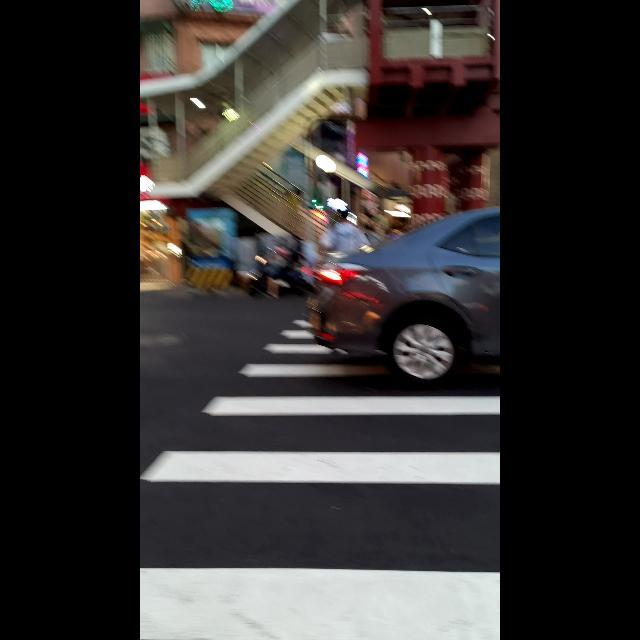sidewalk: (140, 293, 500, 640)
